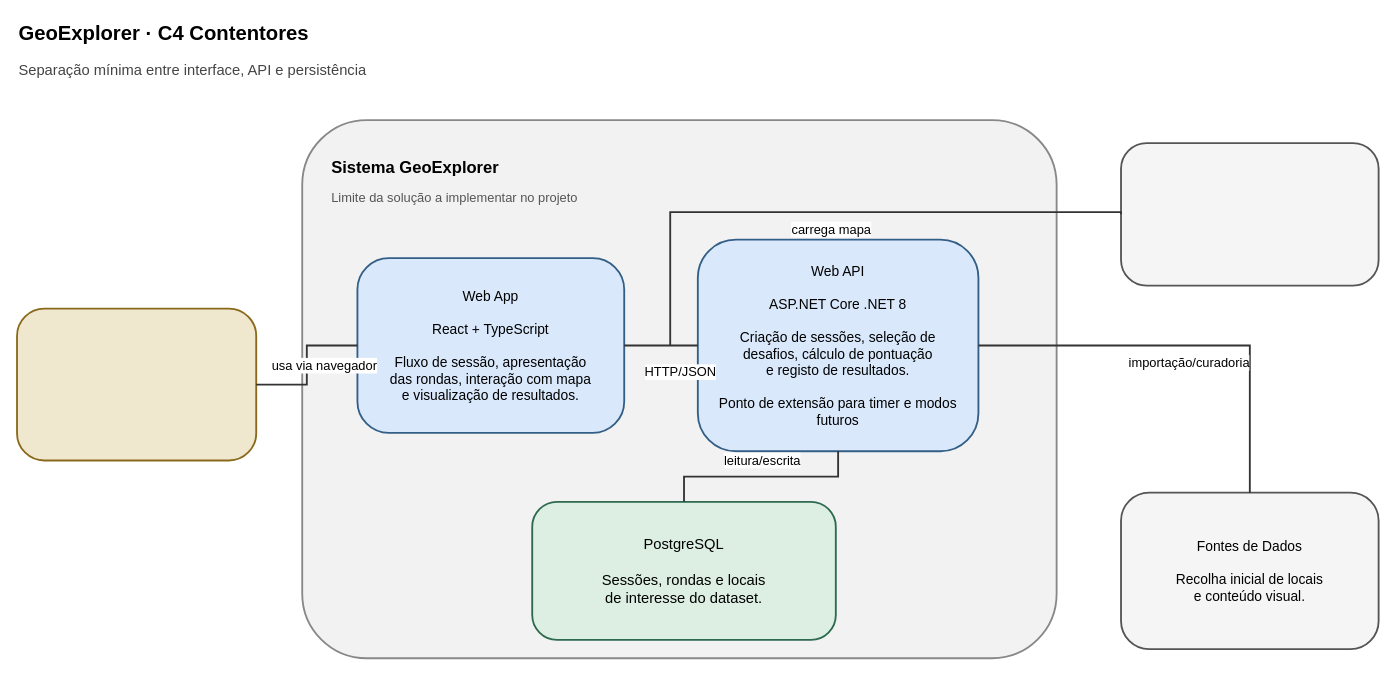
Image size: 1395x674. Some labels were removed from this diagram. Here are the shapes that lost their labels. From the top down, the centre of each, then its label:
At point (1249, 214): "Serviço de Mapas Tiles e interação cartográfica MapLibre / OSM".
At point (136, 384): "Jogador Individual Usa a aplicação web no navegador.".
